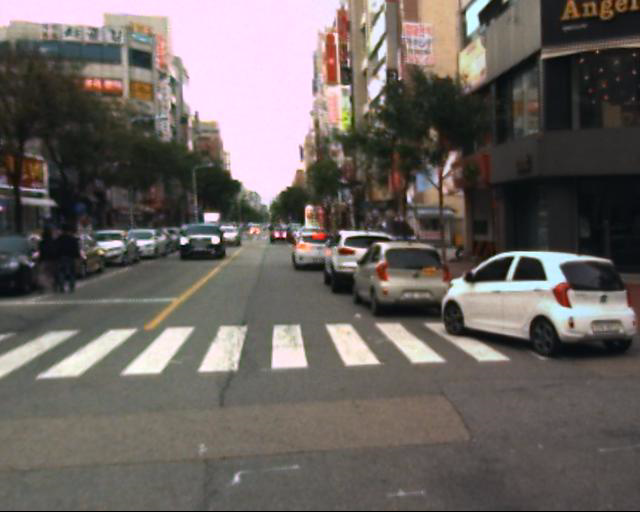person: (47, 217, 91, 302), (29, 214, 60, 295)
